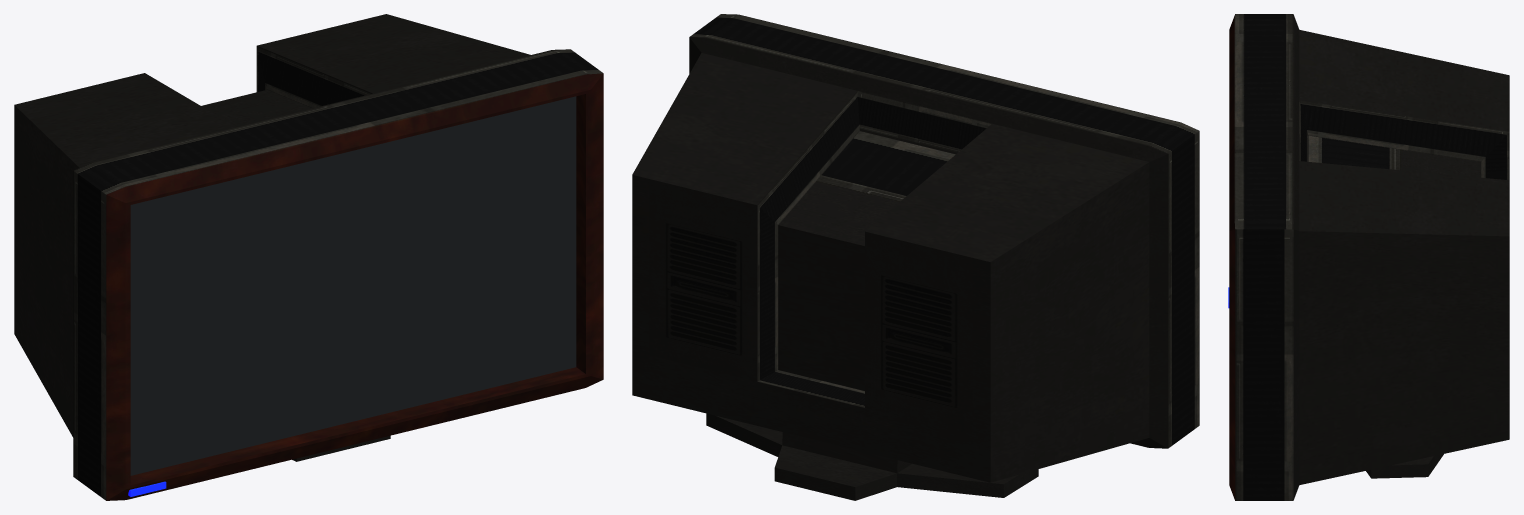
Rendered from camera-monitor.glb.
3 views of the same model, side by side, from view 1: azimuth 30°, elevation 25°; view 2: azimuth 150°, elevation 25°; view 3: azimuth 270°, elevation 25° (orthographic). The views are drawn at different scales.
Visible parts, largest first — view 1: CameraMonitorScreen, Object_9, Object_4; view 2: Object_9; view 3: Object_9, Object_4.
Boxes of the visible parts, x1,y1,x2,y2 form: CameraMonitorScreen: (130, 96, 576, 475); Object_9: (14, 14, 602, 500); Object_4: (106, 73, 603, 500); Object_9: (632, 14, 1199, 500); Object_9: (1234, 14, 1509, 500); Object_4: (1229, 15, 1235, 500).
Size of the model in its own units: 0.6 by 0.3787 by 0.3312.
4 materials, 2 textured.
